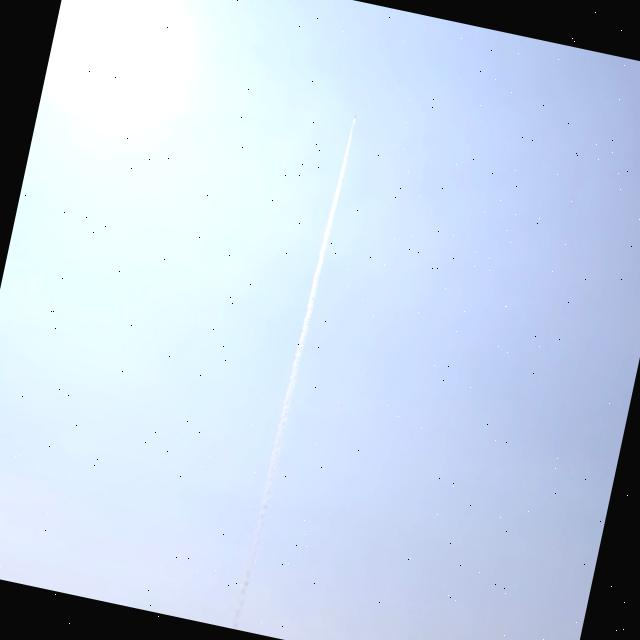smoke_trail_with_rocket: (230, 115, 353, 630)
